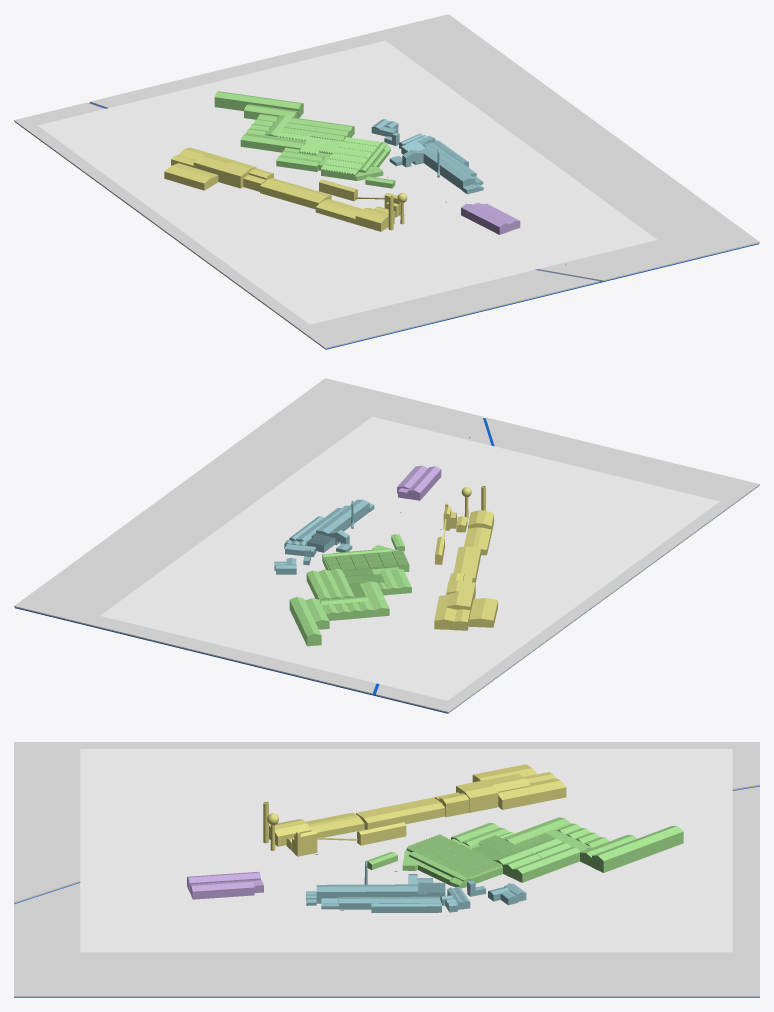
The model's file is Florianmodel.glb.
3 views of the same model, one above another, from view 1: azimuth 30°, elevation 25°; view 2: azimuth 150°, elevation 25°; view 3: azimuth 270°, elevation 25° (orthographic). The views are drawn at different scales.
Parts seen in each view (by area): view 1: Plane, Plane.001, Plane.002, Cube.028, Cube.061, Cube, Cube.005, Cube.068, Cube.071, Cube.014, Cube.056, Cube.064 (+1 smaller); view 2: Plane, Plane.001, Plane.002, Cube.028, Cube, Cube.071, Cube.005, Cube.068, Cube.061, Cube.065, Cube.014; view 3: Plane, Plane.001, Plane.002, Cube.028, Cube, Cube.061, Cube.005, Cube.065, Cube.035, Cube.056, Cube.064, Cube.006 (+14 smaller).
Boxes of the visible parts, <box> form: Plane: <box>38,40,657,324</box>; Plane.001: <box>90,14,759,281</box>; Plane.002: <box>14,102,599,348</box>; Cube.028: <box>321,136,380,180</box>; Cube.061: <box>260,178,331,209</box>; Cube: <box>214,91,303,118</box>; Cube.005: <box>420,148,475,190</box>; Cube.068: <box>164,163,218,190</box>; Cube.071: <box>15,103,758,349</box>; Cube.014: <box>240,133,305,152</box>; Cube.056: <box>315,199,362,224</box>; Cube.064: <box>219,160,256,188</box>; Plane: <box>100,416,719,700</box>; Plane.001: <box>14,378,491,694</box>; Plane.002: <box>376,417,759,712</box>; Cube.028: <box>323,550,409,571</box>; Cube: <box>289,596,321,646</box>; Cube.071: <box>15,418,758,713</box>; Cube.005: <box>316,499,369,536</box>; Cube.068: <box>469,598,497,627</box>; Cube.061: <box>453,546,480,582</box>; Cube.065: <box>434,594,456,629</box>; Cube.014: <box>362,581,389,616</box>; Plane: <box>80,749,732,952</box>; Plane.001: <box>14,786,759,997</box>; Plane.002: <box>14,742,759,903</box>; Cube.028: <box>406,834,502,883</box>; Cube: <box>592,826,683,872</box>; Cube.061: <box>356,797,445,829</box>; Cube.005: <box>316,884,417,903</box>; Cube.065: <box>498,778,566,809</box>; Cube.035: <box>190,880,254,899</box>; Cube.056: <box>305,812,364,837</box>; Cube.064: <box>456,780,498,812</box>; Cube.006: <box>338,896,439,909</box>.
Bounding box in the file's own units: 121 × 9.21 × 150.
